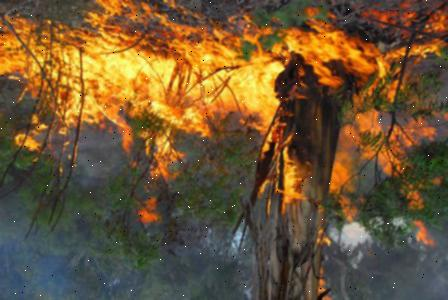fire: (2, 0, 448, 234)
